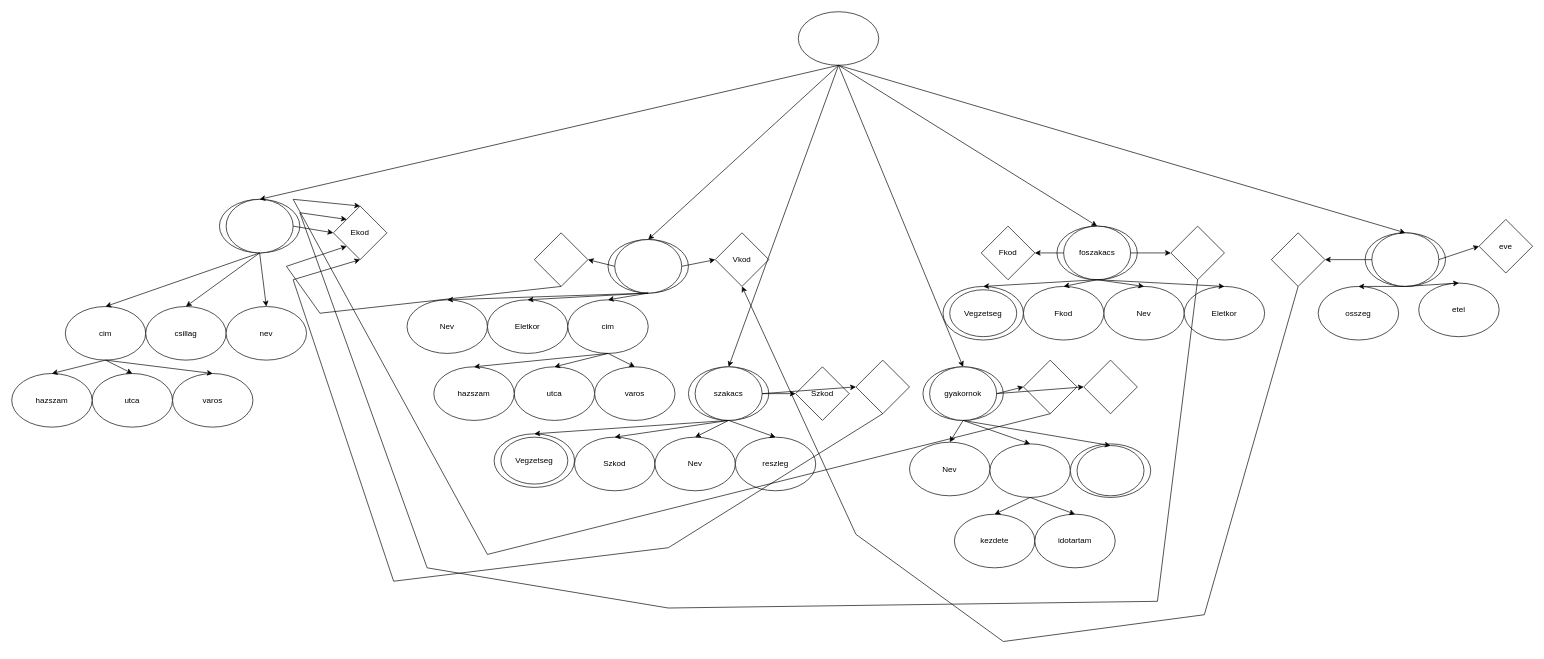
This 1544x659 diagram has some shape labels left out. Each missing label, with the box of its shape:
E-f: (1170, 225, 1224, 280)
E-gy: (1023, 359, 1077, 414)
E-sz: (855, 359, 910, 414)
E-v: (534, 232, 588, 286)
E-V-V: (1271, 232, 1325, 286)
etterem: (225, 199, 293, 253)
gyakorlat: (989, 443, 1070, 497)
Gykod: (1083, 359, 1137, 414)
muszak: (1076, 445, 1144, 496)
rendeles: (1371, 232, 1439, 286)
vendeg: (614, 239, 682, 293)
vendeglatas: (798, 11, 879, 65)
